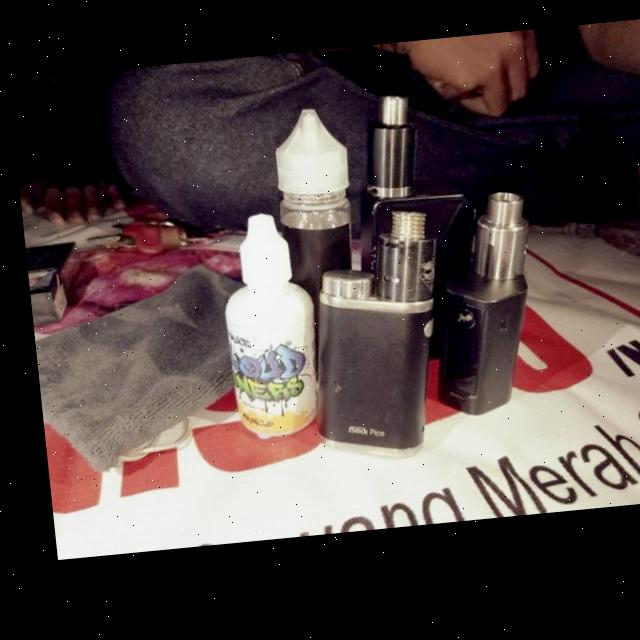vape: (288, 216, 450, 473), (411, 198, 540, 428), (352, 100, 418, 208)
